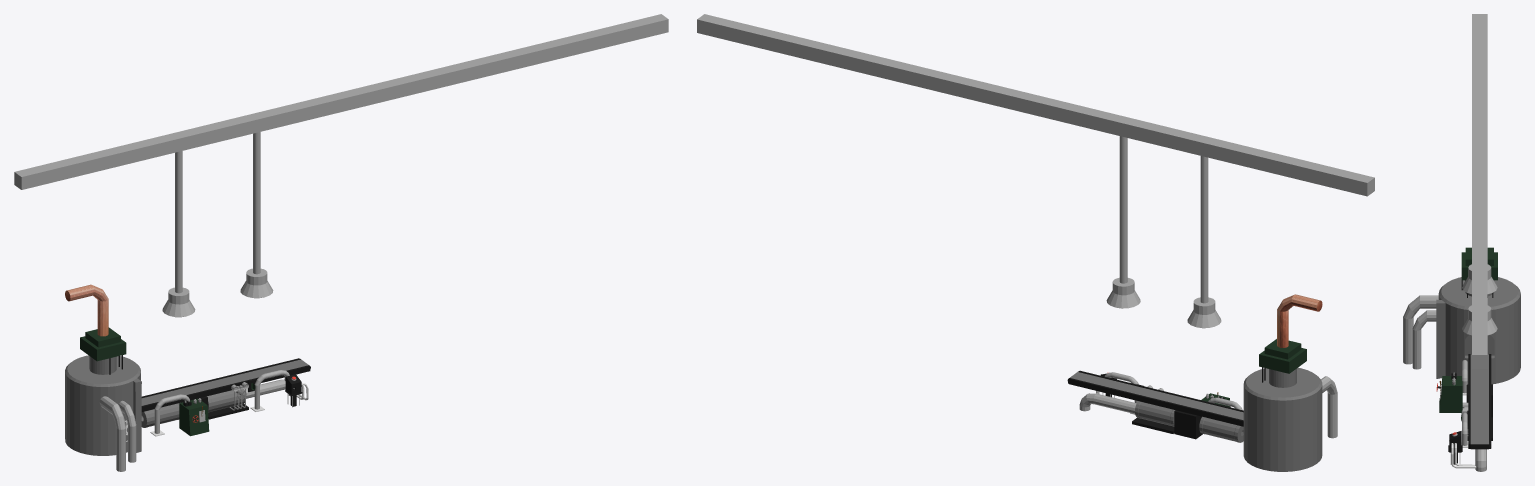
The model's file is Factory_1.fbx.
3 renders of one model, left to right at view 1: azimuth 30°, elevation 25°; view 2: azimuth 150°, elevation 25°; view 3: azimuth 270°, elevation 25°, orthographic. The views are drawn at different scales.
Parts seen in each view (by area): view 1: Cube.067, Cylinder.089, Cube.049, Cylinder.096, Cylinder.097, Cylinder.075, Cube.060, Cylinder.090, Cube.055, Cylinder.099; view 2: Cube.067, Cylinder.089, Cube.049, Cylinder.097, Cylinder.096, Cylinder.075, Cube.060, Cylinder.090, Cylinder.087, Cylinder.099; view 3: Cylinder.089, Cube.067, Cube.049, Cylinder.099, Cube.055, Cylinder.098, Cube.060, Cylinder.096, Cylinder.097, Cube.050, Cylinder.087, Cylinder.088 (+1 smaller).
Boxes of the visible parts, x1=… form: Cube.067: x1=14, y1=14, x2=668, y2=189; Cylinder.089: x1=65, y1=355, x2=141, y2=455; Cube.049: x1=141, y1=358, x2=310, y2=411; Cylinder.096: x1=162, y1=151, x2=195, y2=317; Cylinder.097: x1=240, y1=132, x2=273, y2=298; Cylinder.075: x1=141, y1=388, x2=246, y2=427; Cube.060: x1=80, y1=327, x2=126, y2=361; Cylinder.090: x1=65, y1=284, x2=108, y2=336; Cube.055: x1=179, y1=398, x2=209, y2=436; Cylinder.099: x1=99, y1=396, x2=125, y2=471; Cube.067: x1=697, y1=14, x2=1374, y2=196; Cylinder.089: x1=1243, y1=367, x2=1322, y2=471; Cube.049: x1=1067, y1=370, x2=1243, y2=426; Cylinder.097: x1=1106, y1=136, x2=1140, y2=308; Cylinder.096: x1=1187, y1=156, x2=1221, y2=328; Cylinder.075: x1=1135, y1=401, x2=1243, y2=442; Cube.060: x1=1259, y1=339, x2=1306, y2=373; Cylinder.090: x1=1277, y1=294, x2=1322, y2=347; Cylinder.087: x1=1079, y1=393, x2=1136, y2=413; Cylinder.099: x1=1321, y1=376, x2=1337, y2=438; Cylinder.089: x1=1436, y1=277, x2=1520, y2=384; Cube.067: x1=1472, y1=14, x2=1487, y2=368; Cube.049: x1=1468, y1=354, x2=1491, y2=449; Cylinder.099: x1=1403, y1=295, x2=1438, y2=364; Cube.055: x1=1439, y1=376, x2=1462, y2=412; Cylinder.098: x1=1412, y1=310, x2=1436, y2=369; Cube.060: x1=1461, y1=247, x2=1497, y2=280; Cylinder.096: x1=1462, y1=264, x2=1497, y2=294; Cylinder.097: x1=1462, y1=305, x2=1497, y2=335; Cube.050: x1=1448, y1=431, x2=1462, y2=464; Cylinder.087: x1=1475, y1=449, x2=1486, y2=471; Cylinder.088: x1=1462, y1=412, x2=1467, y2=445.
Size of the model in its own units: 7010 by 2985 by 1023.
